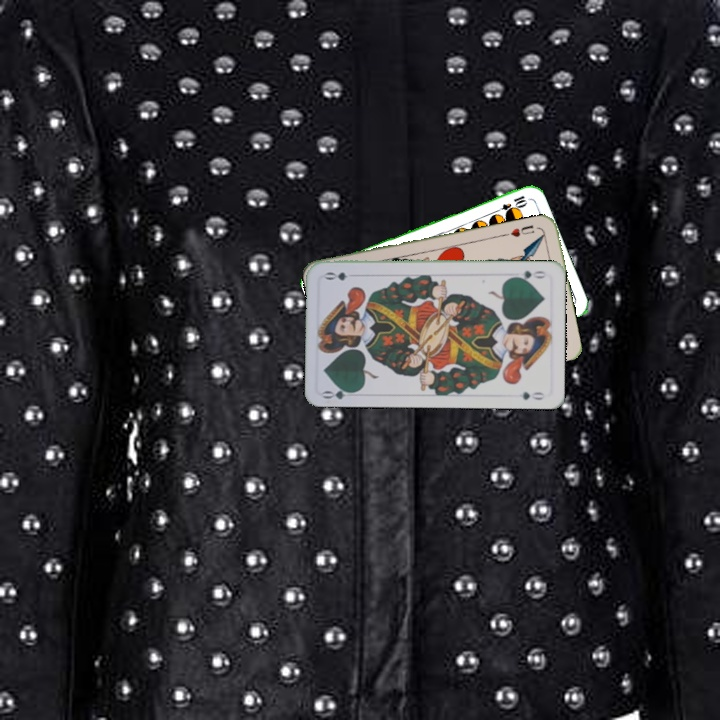E10: (490, 191, 529, 217)
GO: (319, 383, 360, 402), (509, 266, 549, 283)
HU: (507, 221, 536, 240)
